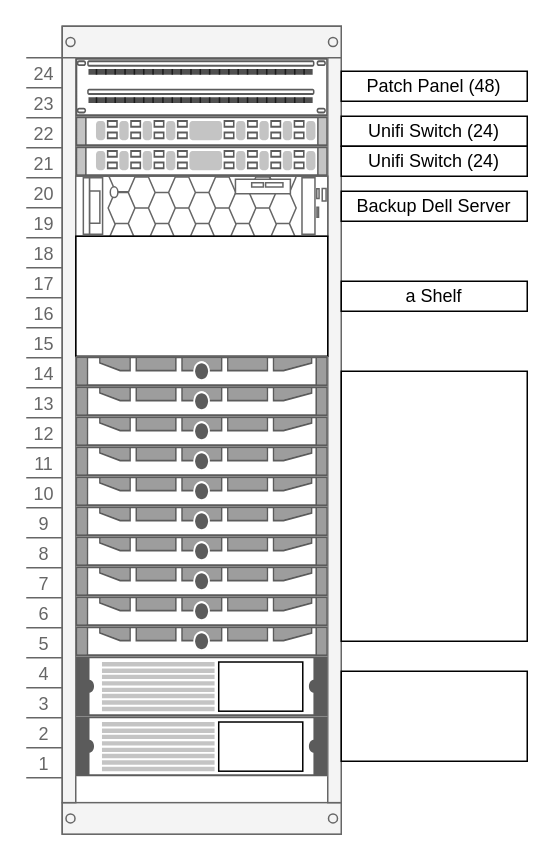
This 554x861 diagram has some shape labels left out. The centre of each missing label's shape, as x and y in pixels:
"Main Servers x10 Dell One per team VLAN for each 1Gbps Ether ? Cores 32 GB RAM" goes at pixel 433 505.
"Shelf (w/Synology?)" goes at pixel 201 295.
"x2 APU Battery Packs" goes at pixel 433 715.
